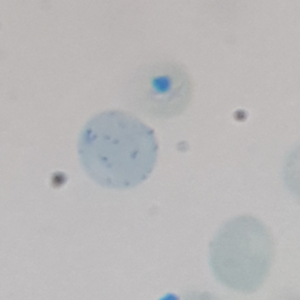aggregate reticulocyte: (75, 107, 159, 189)
erythrocyte: (205, 214, 278, 295), (128, 58, 196, 120)
